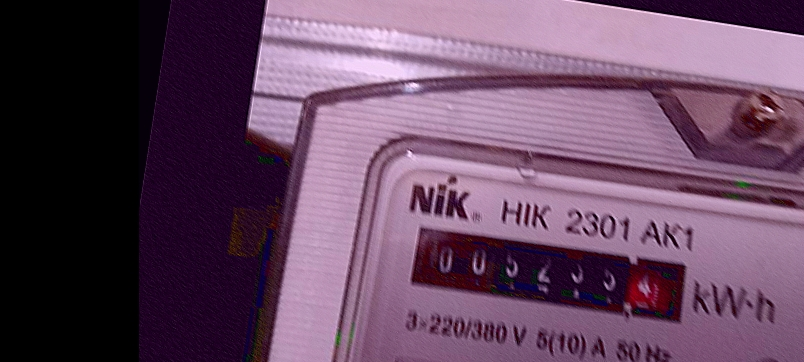0: (468, 242, 493, 278), (436, 241, 459, 274)
2: (534, 249, 560, 286)
3: (566, 252, 595, 288)
4: (634, 263, 661, 301)
5: (599, 256, 626, 295), (502, 245, 526, 281)
screen: (394, 207, 705, 338)
